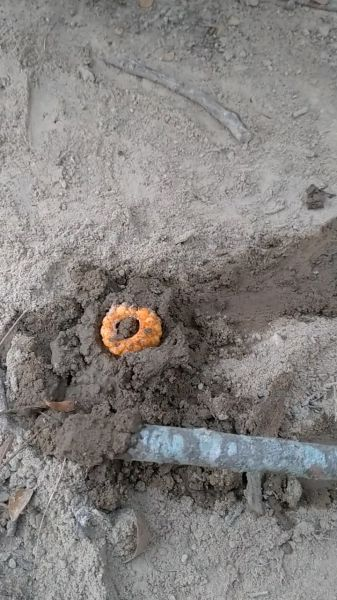eggs: (93, 294, 170, 367)
